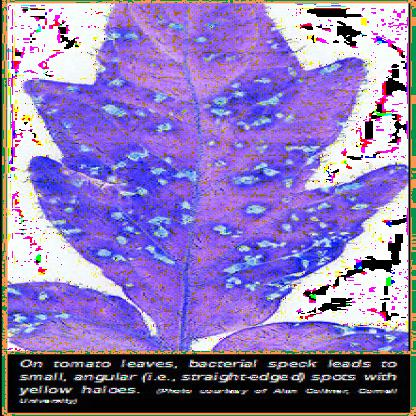tomato leaf bacterial spot: (19, 7, 405, 349)
